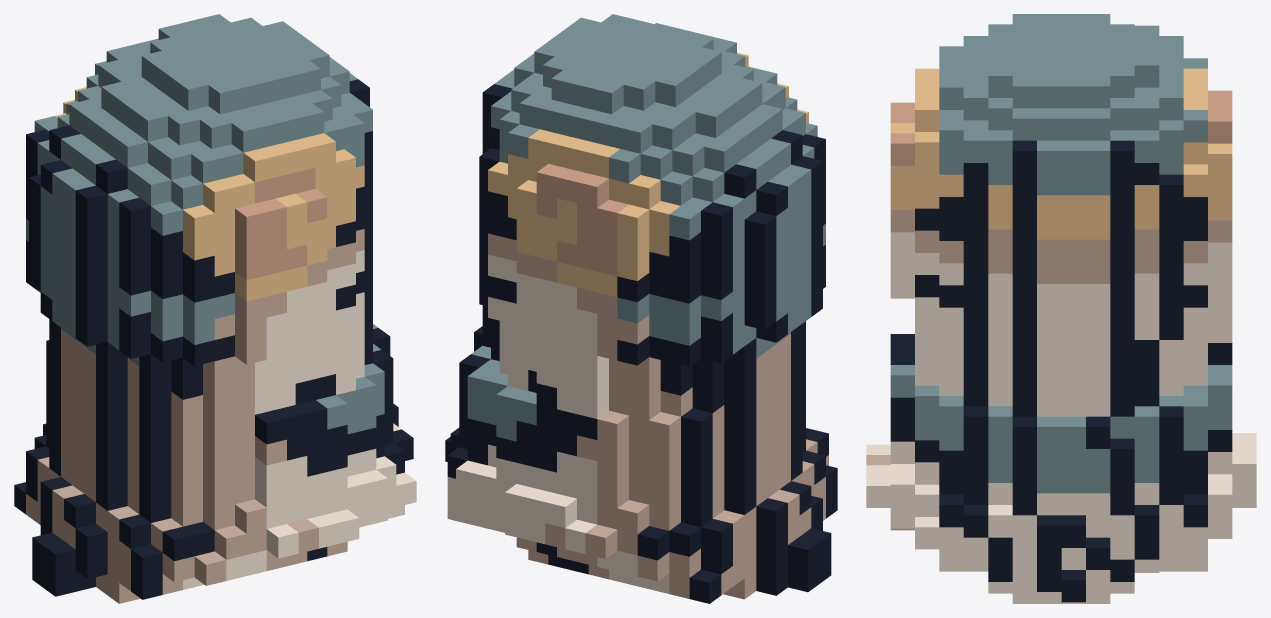
The model's file is Stump4.glb.
3 views of the same model, side by side, from view 1: azimuth 30°, elevation 25°; view 2: azimuth 150°, elevation 25°; view 3: azimuth 270°, elevation 25° (orthographic). The views are drawn at different scales.
Parts seen in each view (by area): view 1: q0; view 2: q0; view 3: q0.
Part boxes in pixels (x1,y1,x2,y2): q0: (14,14,416,603); q0: (445,14,837,603); q0: (866,14,1256,603).
Bounding box in the file's own units: 18 × 23 × 16.
Materials: 1 (1 with a texture image).
